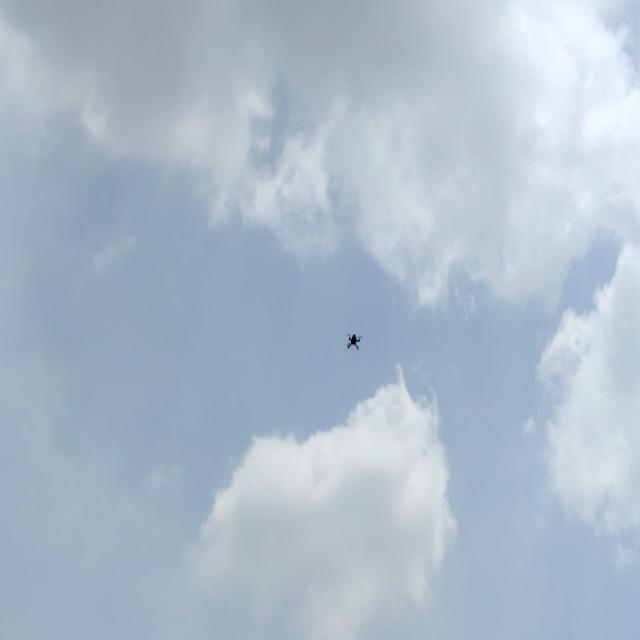drone: (344, 332, 366, 353)
